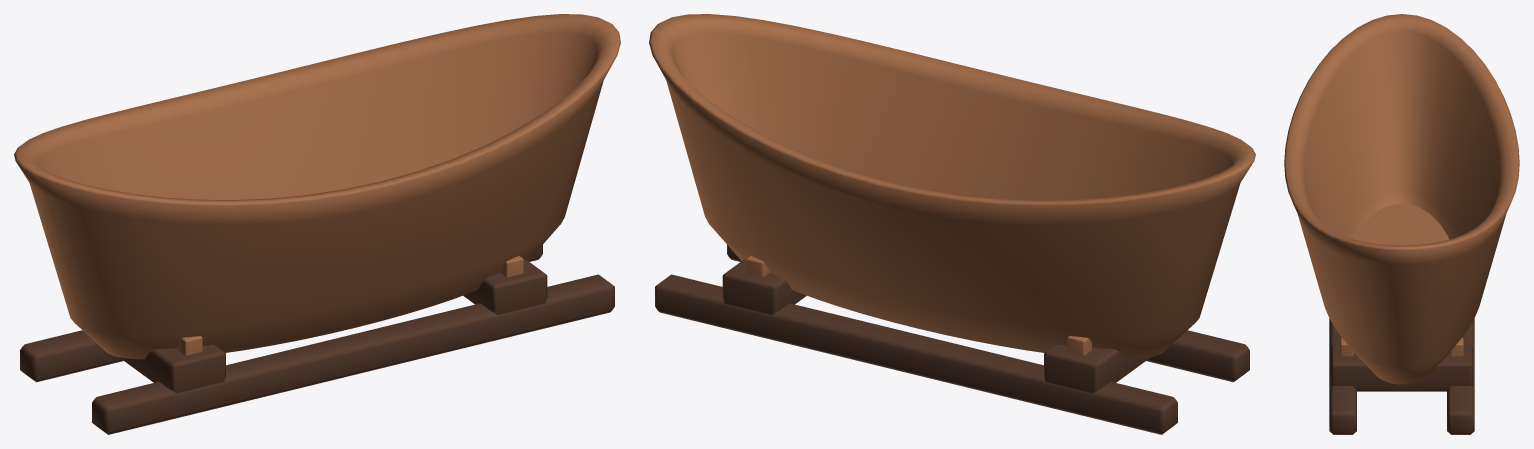
File: rpg-mansion-copper-bateau-cradle-bath-01.glb
3 renders of one model, left to right at view 1: azimuth 30°, elevation 25°; view 2: azimuth 150°, elevation 25°; view 3: azimuth 270°, elevation 25°, orthographic. The views are drawn at different scales.
Parts seen in each view (by area): view 1: rpg-mansion-copper-bateau-cradle-bath-01; view 2: rpg-mansion-copper-bateau-cradle-bath-01; view 3: rpg-mansion-copper-bateau-cradle-bath-01.
Part boxes in pixels (x1,y1,x2,y2): rpg-mansion-copper-bateau-cradle-bath-01: (14,14,620,434); rpg-mansion-copper-bateau-cradle-bath-01: (649,14,1255,434); rpg-mansion-copper-bateau-cradle-bath-01: (1284,14,1519,434).
Bounding box in the file's own units: 1.8 × 0.726 × 0.76.
